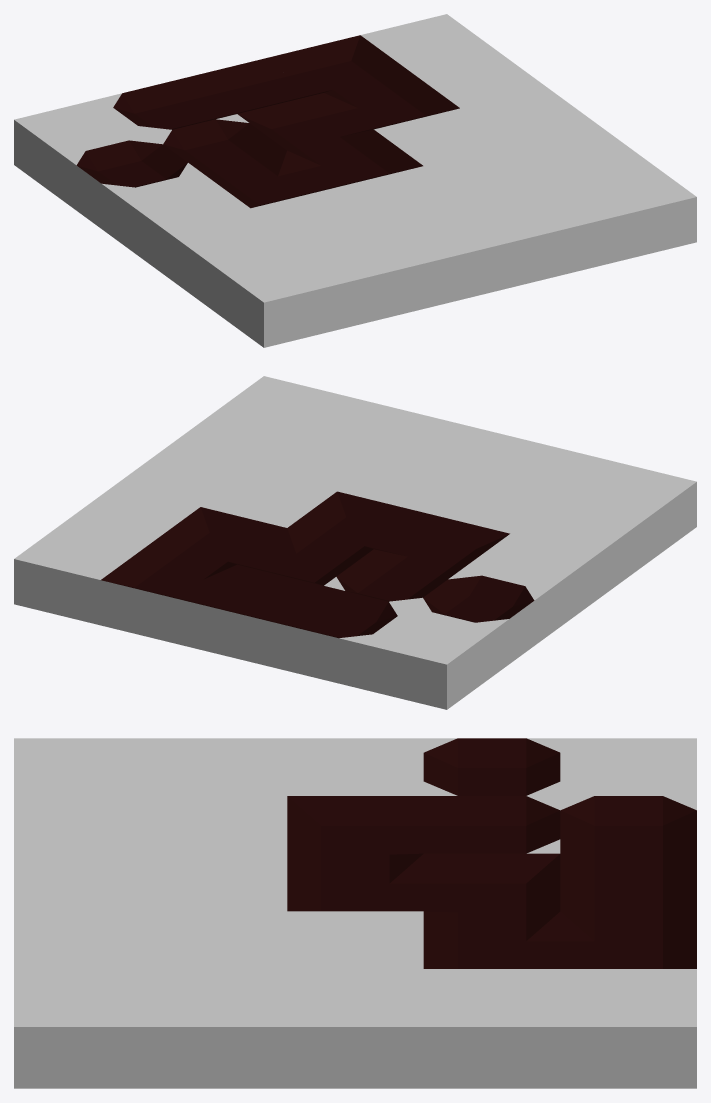
The picture shows the model from 3 angles, top to bottom: view 1: azimuth 30°, elevation 25°; view 2: azimuth 150°, elevation 25°; view 3: azimuth 270°, elevation 25°; orthographic projection. The views are drawn at different scales.
Visible parts, largest first — view 1: block.0.0_block.10473, block.3.0_block.10482, block.1.0_block.10478, block.4.0_block.10485, block.2.0_block.10480, block.0.2_block.10475, block.0.3_Cube.025, block.0.4_block.10477, block.0.1_block.10474, corner.3.4_corner.3090, ending.1.3_ending.1233, corner.2.3_corner.3088 (+13 smaller); view 2: block.0.4_block.10477, through.2.4_through.612, block.4.4_block.10489, corner.3.4_corner.3090, ending.1.4_ending.1234, block.0.0_block.10473, block.0.1_block.10474, block.0.2_block.10475, block.0.3_Cube.025, corner.2.2_corner.3087, corner.3.3_corner.3089, corner.1.2_corner.3086 (+13 smaller); view 3: block.4.1_block.10486, block.4.3_block.10488, block.4.0_block.10485, block.4.2_block.10487, block.4.4_block.10489, corner.2.3_corner.3088, ending.1.4_ending.1234, corner.1.2_corner.3086, block.2.1_block.10481, block.2.0_block.10480, block.0.1_block.10474, block.0.3_Cube.025 (+13 smaller).
Boxes of the visible parts, x1,y1,x2,y2 form: block.0.0_block.10473: (214, 245, 350, 347); block.3.0_block.10482: (474, 181, 610, 284); block.1.0_block.10478: (301, 224, 437, 326); block.4.0_block.10485: (560, 160, 696, 263); block.2.0_block.10480: (387, 202, 523, 305); block.0.2_block.10475: (114, 172, 249, 274); block.0.3_Cube.025: (64, 135, 200, 237); block.0.4_block.10477: (14, 98, 149, 201); block.0.1_block.10474: (164, 208, 299, 310); corner.3.4_corner.3090: (274, 35, 409, 98); ending.1.3_ending.1233: (151, 114, 286, 177); corner.2.3_corner.3088: (237, 93, 372, 156); block.0.4_block.10477: (360, 607, 496, 709); through.2.4_through.612: (187, 564, 323, 667); block.4.4_block.10489: (14, 522, 150, 625); corner.3.4_corner.3090: (100, 543, 236, 646); ending.1.4_ending.1234: (273, 586, 409, 688); block.0.0_block.10473: (561, 460, 696, 563); block.0.1_block.10474: (510, 497, 646, 599); block.0.2_block.10475: (461, 534, 596, 636); block.0.3_Cube.025: (411, 570, 546, 672); corner.2.2_corner.3087: (287, 491, 423, 554); corner.3.3_corner.3089: (151, 507, 286, 570); corner.1.2_corner.3086: (374, 512, 509, 576); block.4.1_block.10486: (150, 969, 287, 1088); block.4.3_block.10488: (423, 969, 560, 1088); block.4.0_block.10485: (14, 969, 150, 1088); block.4.2_block.10487: (287, 969, 423, 1088); block.4.4_block.10489: (560, 969, 696, 1088); corner.2.3_corner.3088: (423, 853, 560, 926); ending.1.4_ending.1234: (560, 796, 696, 868); corner.1.2_corner.3086: (287, 796, 423, 868); block.2.1_block.10481: (150, 853, 287, 911); block.2.0_block.10480: (14, 853, 150, 911); block.0.1_block.10474: (150, 738, 287, 795); block.0.3_Cube.025: (423, 738, 560, 795).
Size of the model in its own units: 10 by 1 by 10.
